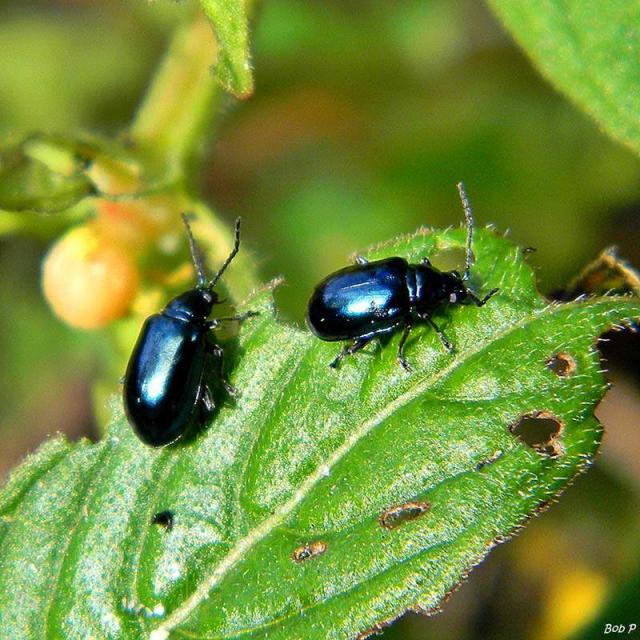flea_beetle: (306, 173, 500, 358), (124, 195, 259, 460)
